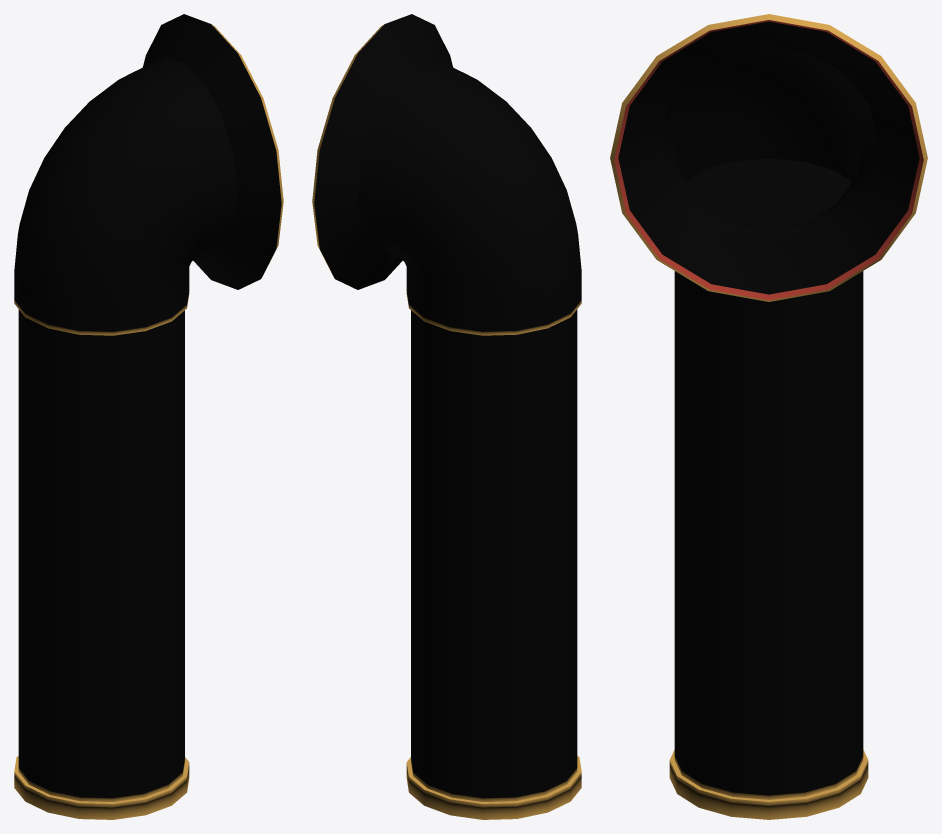
File: cowl_vent_30.glb
3 views of the same model, side by side, from view 1: azimuth 30°, elevation 25°; view 2: azimuth 150°, elevation 25°; view 3: azimuth 270°, elevation 25° (orthographic). The views are drawn at different scales.
Parts seen in each view (by area): view 1: trunk, cowl; view 2: trunk, cowl; view 3: trunk, cowl_inside, cowl.
Boxes of the visible parts, x1=… form: trunk: x1=14, y1=309, x2=189, y2=819; cowl: x1=14, y1=14, x2=283, y2=335; trunk: x1=406, y1=309, x2=581, y2=819; cowl: x1=312, y1=14, x2=581, y2=335; trunk: x1=669, y1=271, x2=868, y2=819; cowl_inside: x1=614, y1=20, x2=923, y2=300; cowl: x1=610, y1=14, x2=927, y2=301.
Bounding box in the file's own units: 0.744 × 2.75 × 0.96.
